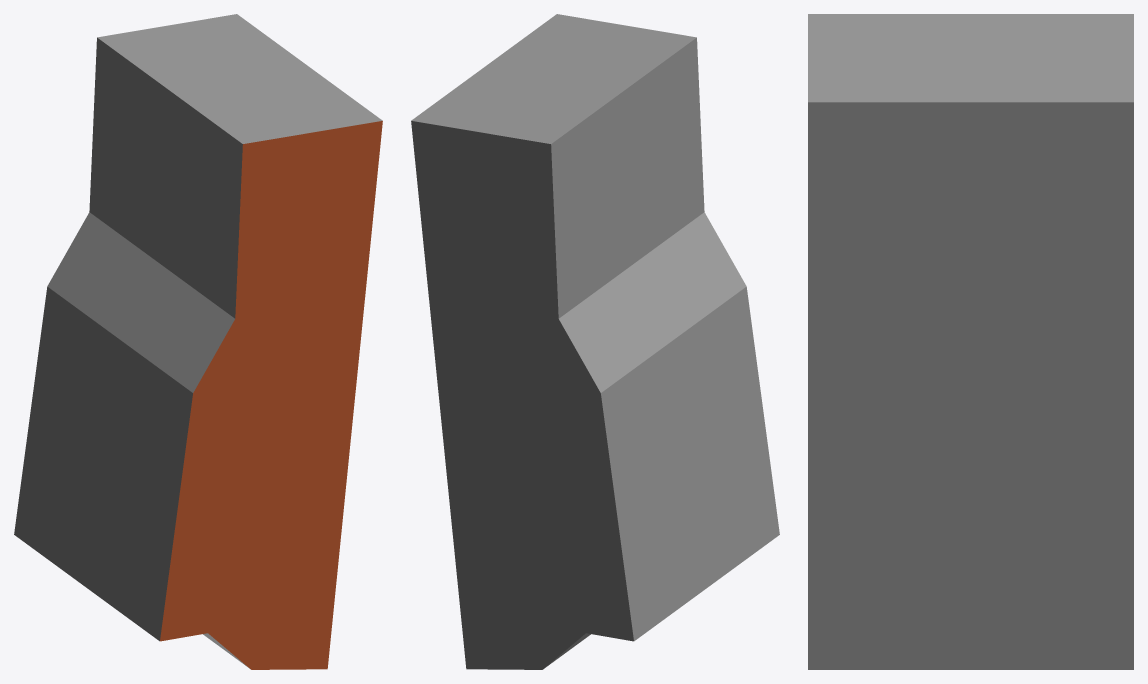
Rendered from construction_1357_assumed_A_Casa_h6m.obj.
3 renders of one model, left to right at view 1: azimuth 30°, elevation 25°; view 2: azimuth 150°, elevation 25°; view 3: azimuth 270°, elevation 25°, orthographic. The views are drawn at different scales.
Parts seen in each view (by area): view 1: construction_1357_assumed_A_Casa; view 2: construction_1357_assumed_A_Casa; view 3: construction_1357_assumed_A_Casa.
Part boxes in pixels (x1,y1,x2,y2): construction_1357_assumed_A_Casa: (14,14,382,669); construction_1357_assumed_A_Casa: (411,14,779,669); construction_1357_assumed_A_Casa: (808,14,1133,669).
Bounding box in the file's own units: 5.3 × 12.39 × 6.
